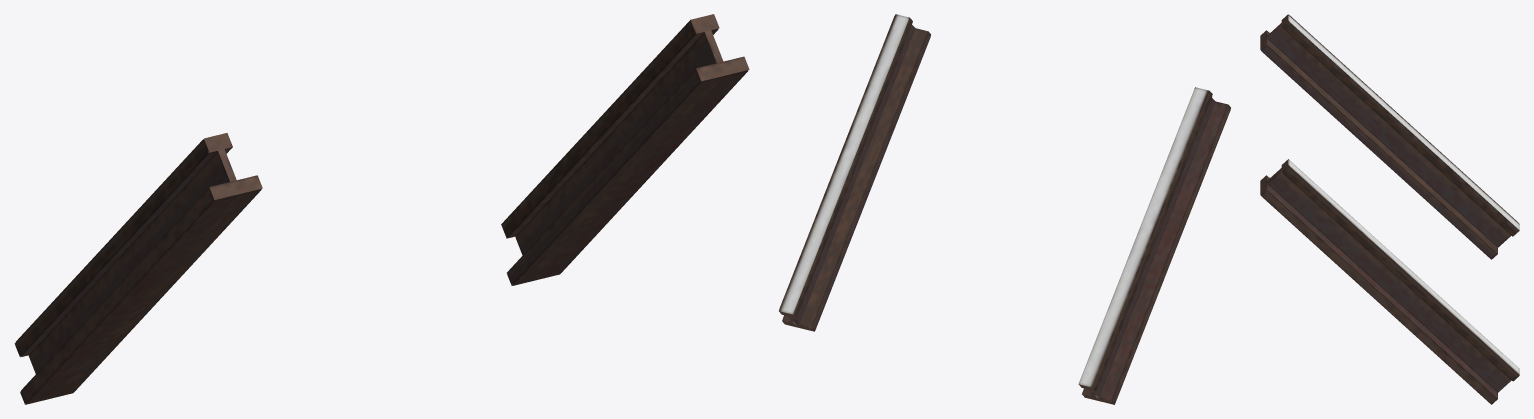
File: ascending.obj
3 renders of one model, left to right at view 1: azimuth 30°, elevation 25°; view 2: azimuth 150°, elevation 25°; view 3: azimuth 270°, elevation 25°, orthographic. The views are drawn at different scales.
Visible parts, largest first — view 1: cube_selection; view 2: cube_selection; view 3: cube_selection.
Boxes of the visible parts, bbox=[...] form: cube_selection: bbox=[14, 14, 749, 404]; cube_selection: bbox=[779, 14, 1230, 404]; cube_selection: bbox=[1260, 14, 1519, 404].
Size of the model in its own units: 1.66 by 1.14 by 1.14.
